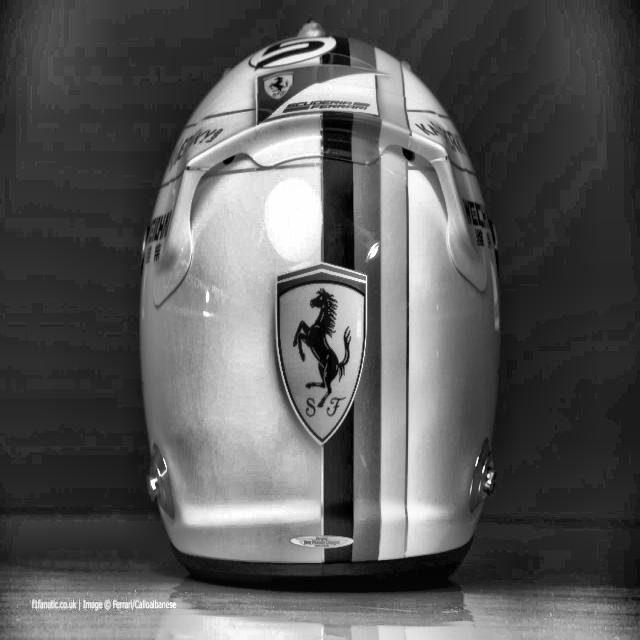Helmet: (132, 20, 516, 599)
